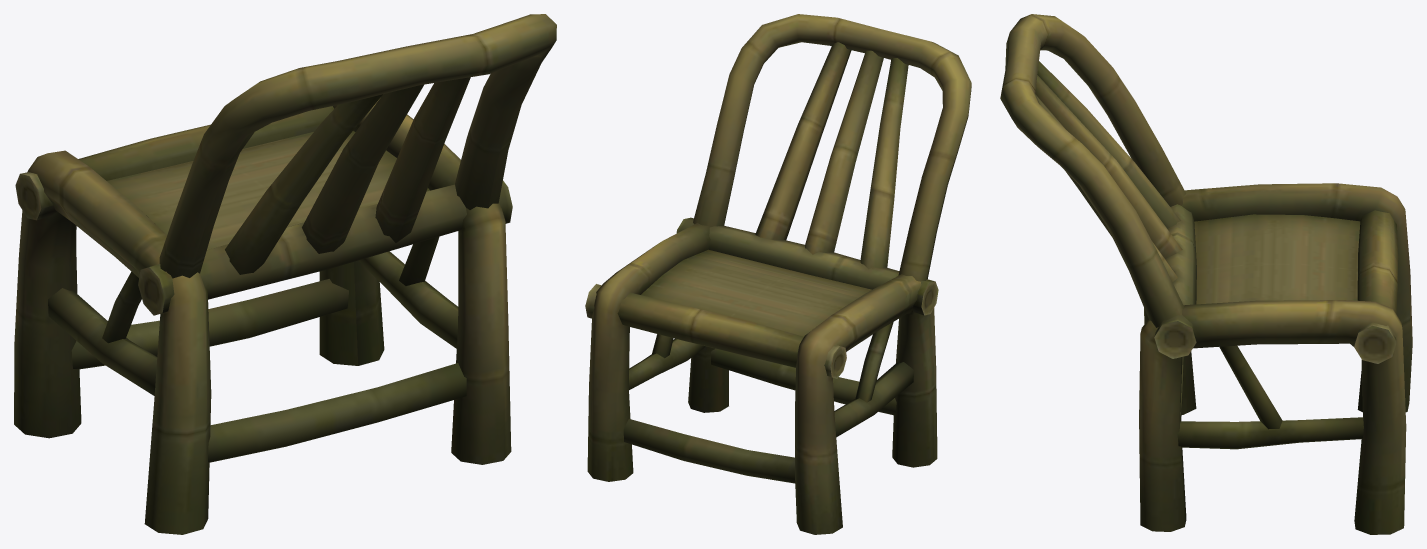
The model's file is furn_xn2018_chair_01.gltf.
3 renders of one model, left to right at view 1: azimuth 30°, elevation 25°; view 2: azimuth 150°, elevation 25°; view 3: azimuth 270°, elevation 25°, orthographic. The views are drawn at different scales.
Parts seen in each view (by area): view 1: xn2018_chair_01; view 2: xn2018_chair_01; view 3: xn2018_chair_01.
Boxes of the visible parts, x1,y1,x2,y2 form: xn2018_chair_01: [14, 14, 556, 534]; xn2018_chair_01: [585, 14, 971, 534]; xn2018_chair_01: [1000, 14, 1412, 534].
Size of the model in its own units: 0.3717 by 0.5044 by 0.4622.
Materials: 1 (1 with a texture image).
